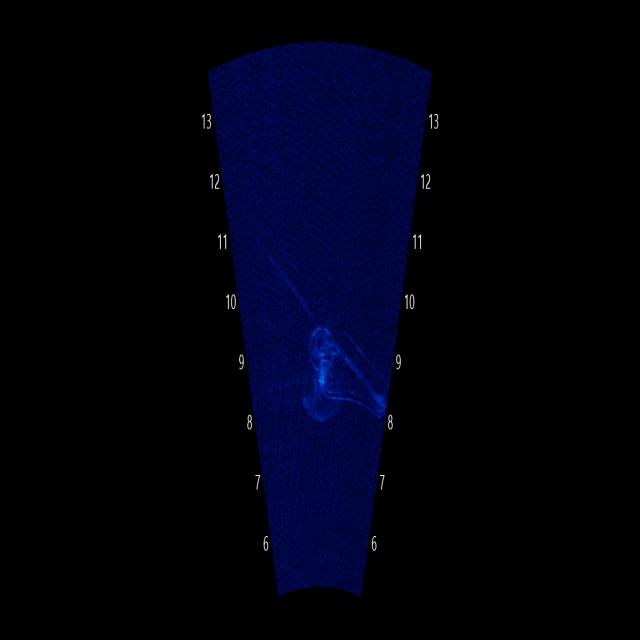circle: (298, 292, 349, 383)
